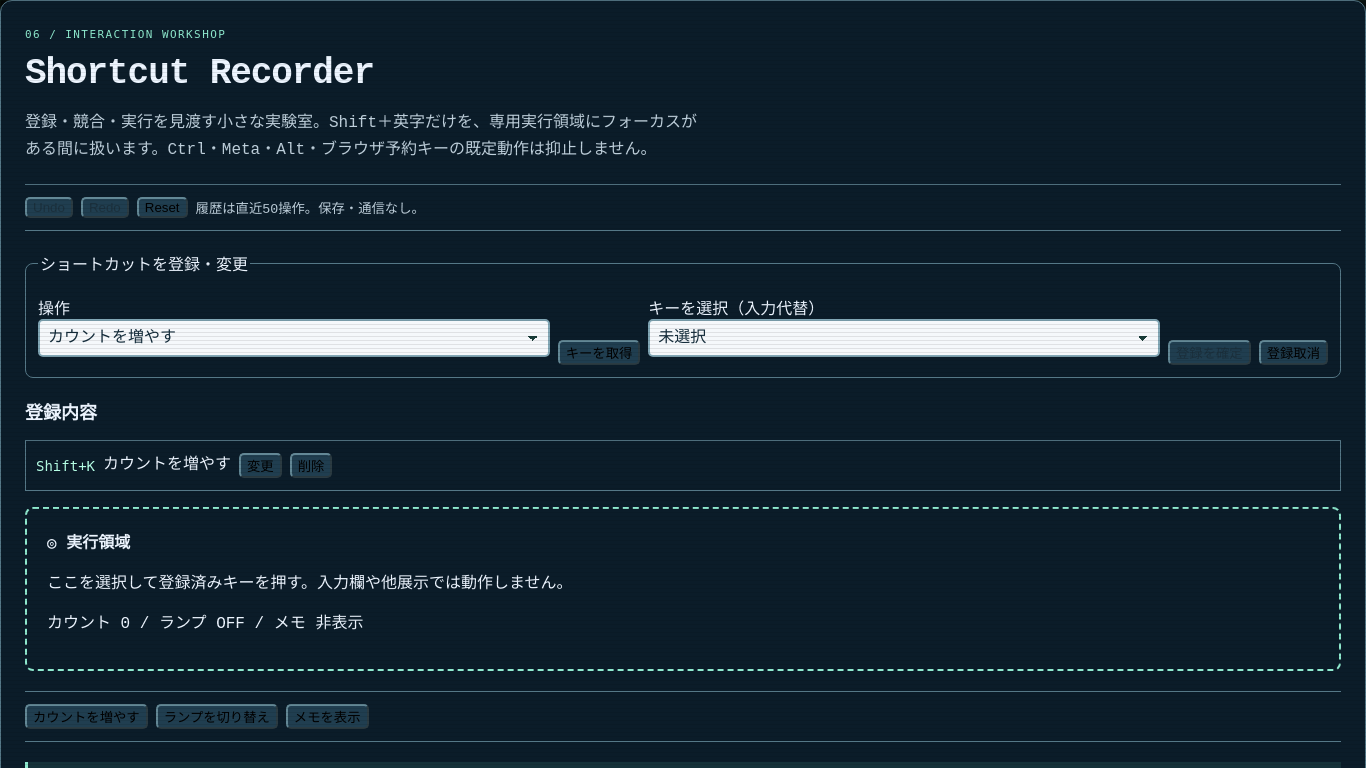
Test: shortcut Shift contract accepts Shift only, rejects Alt+Shift without preventing browser defaults
Click the button "キーを取得" at [599, 353], box [558,340,640,365]
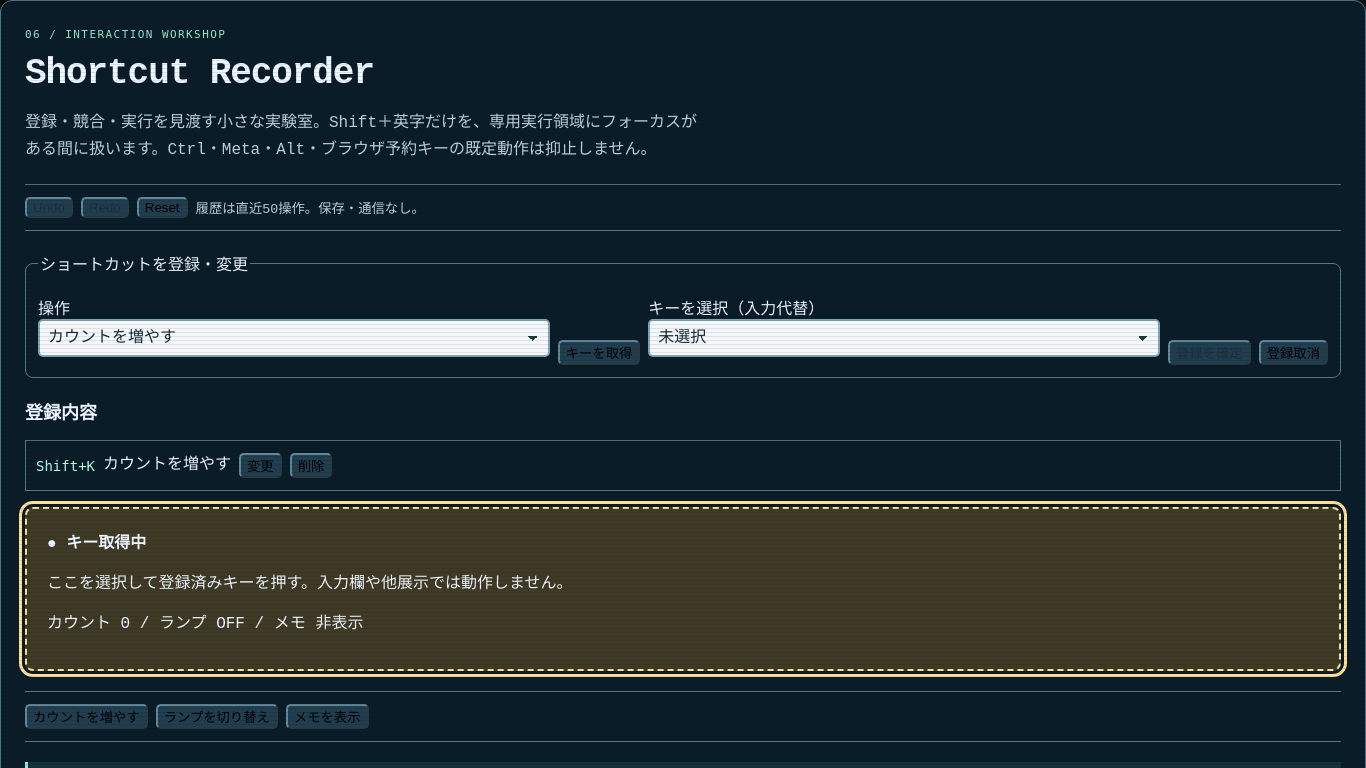
Press L in the element named "ショートカット実行領域", box [25,507,1341,671]
Expected: the button "登録を確定" is disabled, [1168,340,1251,365]
Press L in the element named "ショートカット実行領域", box [25,507,1341,671]
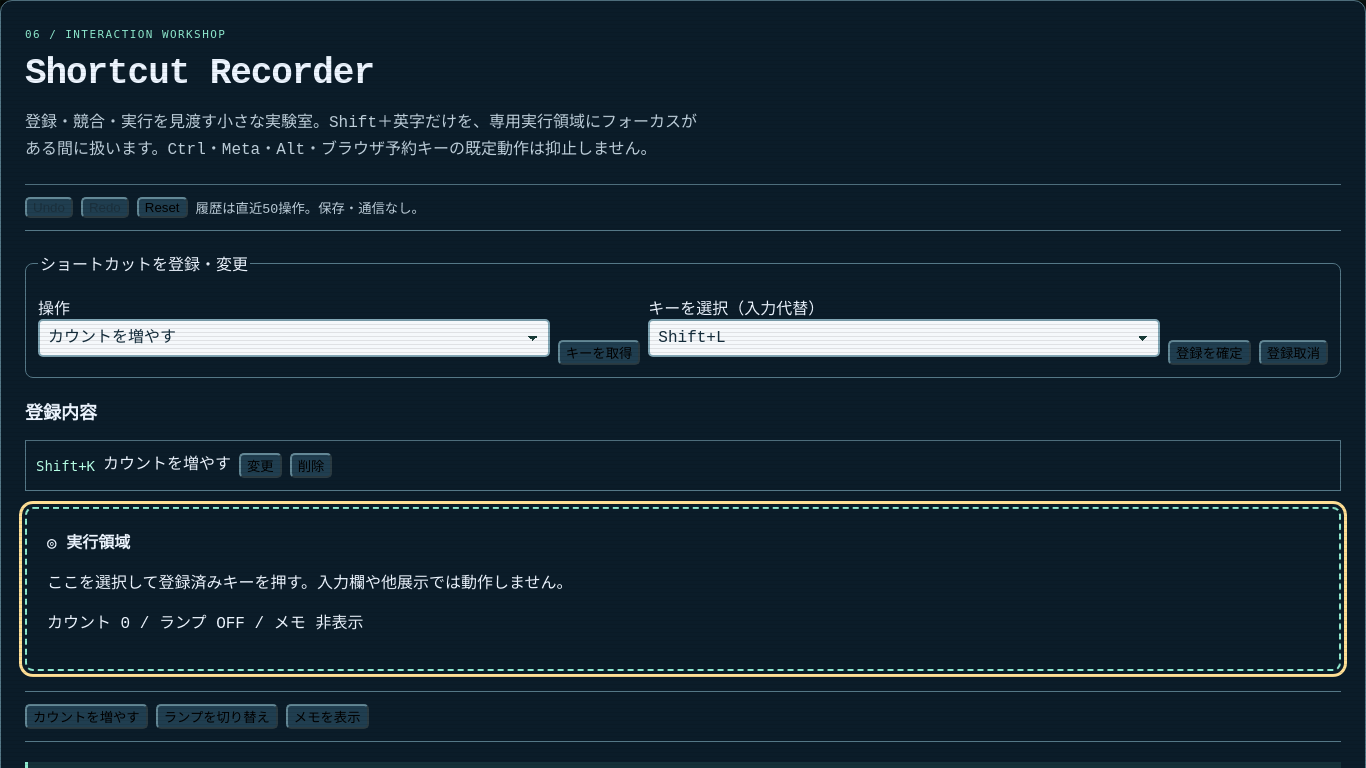
Click the button "登録を確定" at [1209, 353], box [1168,340,1251,365]
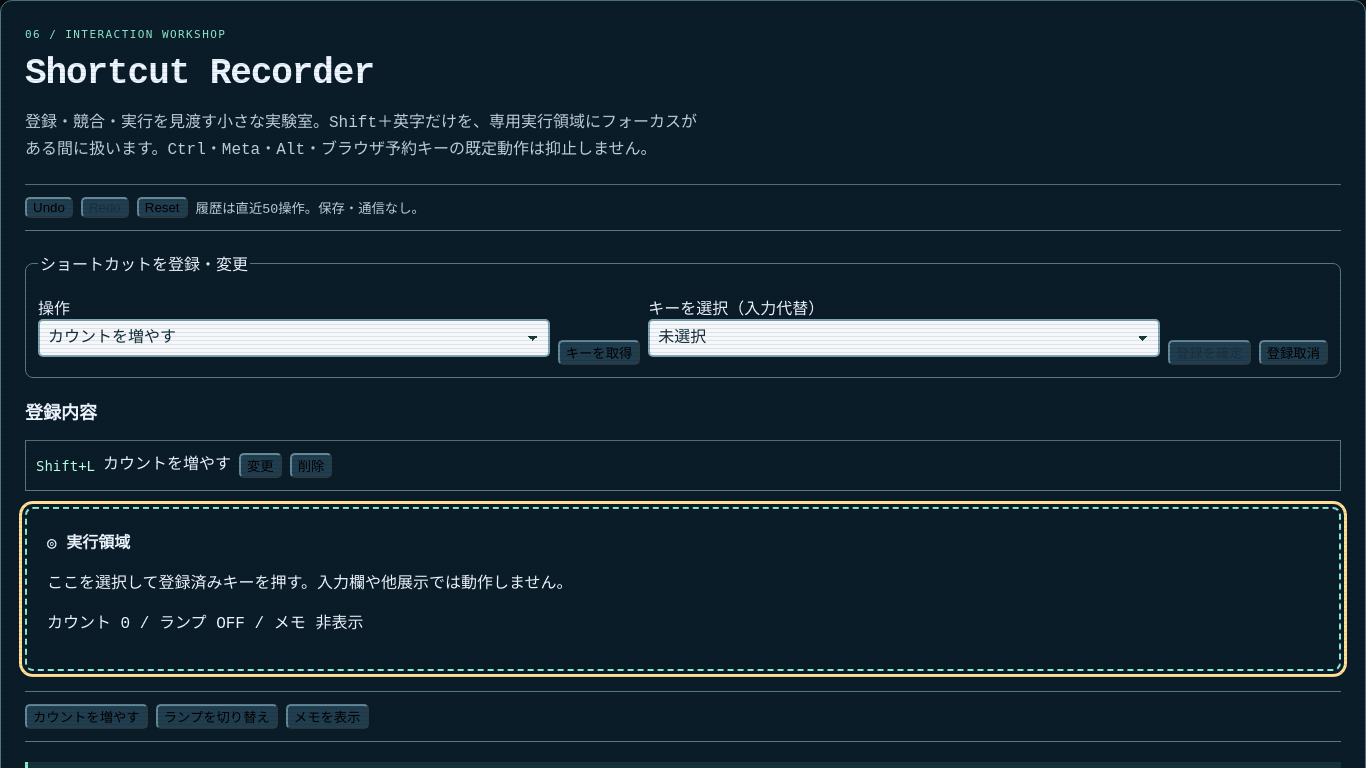
Press L in the element named "ショートカット実行領域", box [25,507,1341,671]
Expected: the text with test id "shortcut-result" shows "カウント 0", [47,615,363,633]
Press L
Expected: the text with test id "shortcut-result" shows "カウント 0", [47,615,363,633]
Press L in the element named "ショートカット実行領域", box [25,507,1341,671]
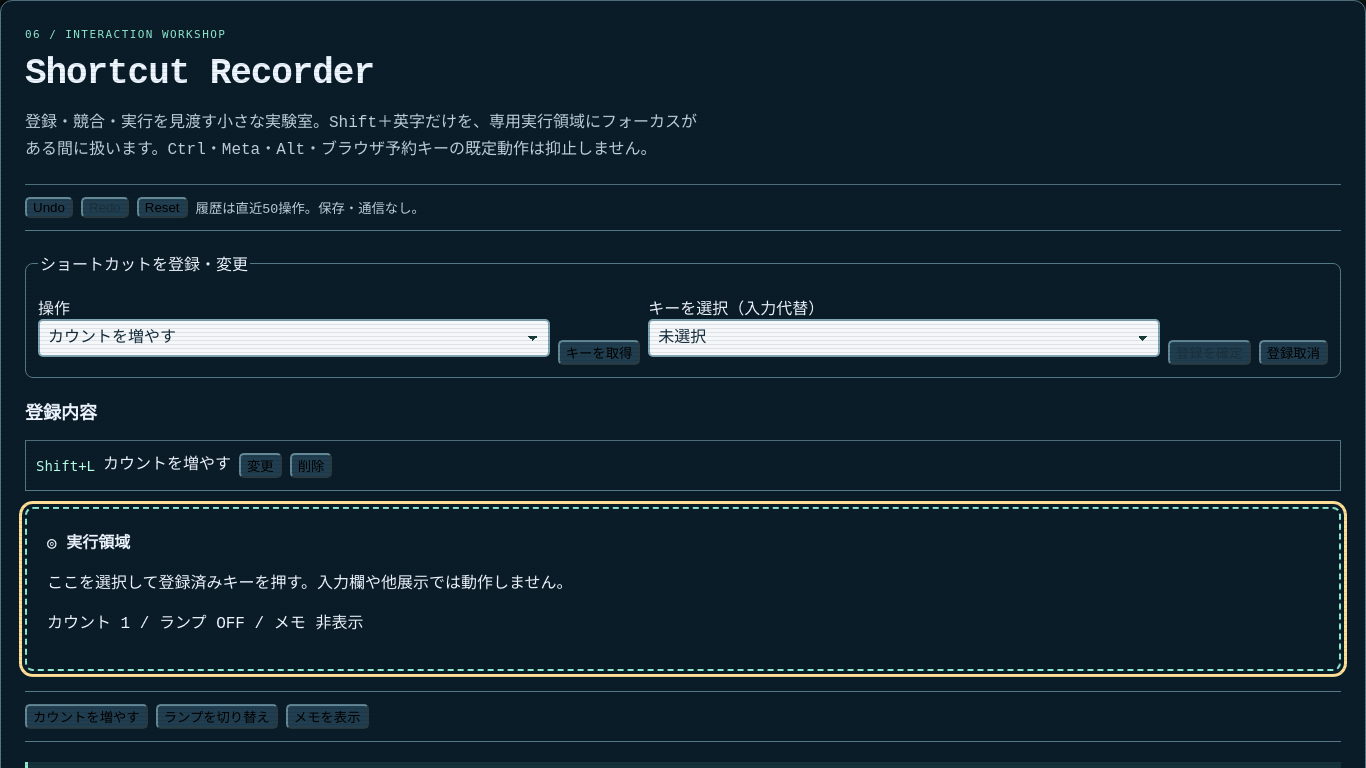
Expected: the text with test id "shortcut-result" shows "カウント 1", [47,615,363,633]
